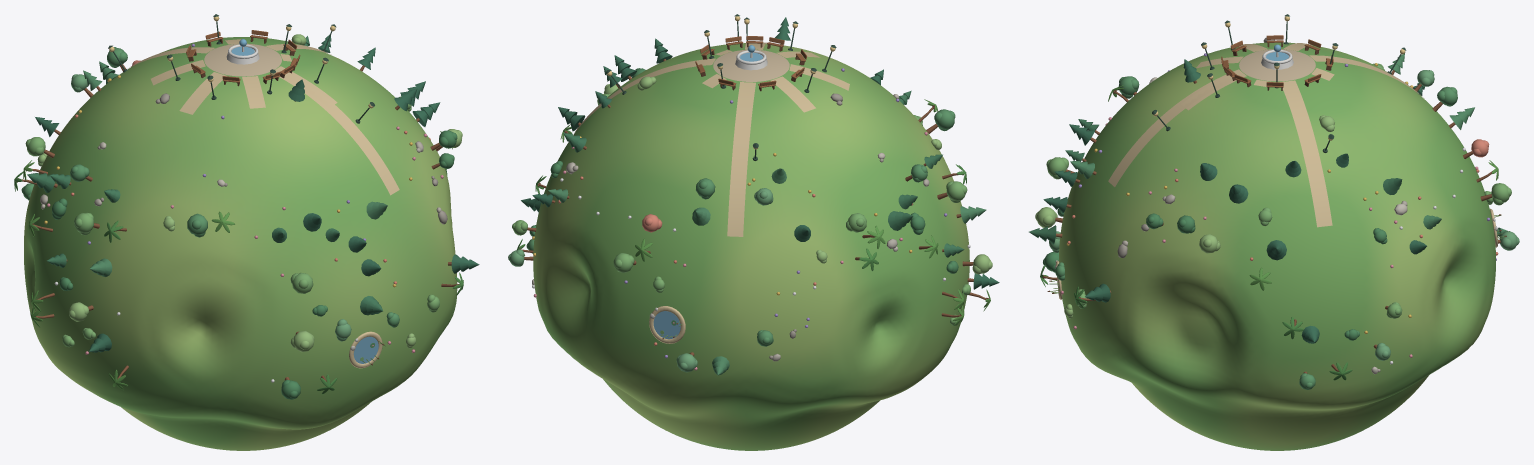
File: ground.glb
3 views of the same model, side by side, from view 1: azimuth 30°, elevation 25°; view 2: azimuth 150°, elevation 25°; view 3: azimuth 270°, elevation 25° (orthographic).
Visible parts, largest first — view 1: ground; view 2: ground; view 3: ground.
Boxes of the visible parts, x1,y1,x2,y2 form: ground: (14, 14, 479, 450); ground: (508, 14, 999, 450); ground: (1029, 14, 1519, 450).
Bounding box in the file's own units: 20.14 × 17.83 × 20.22.
